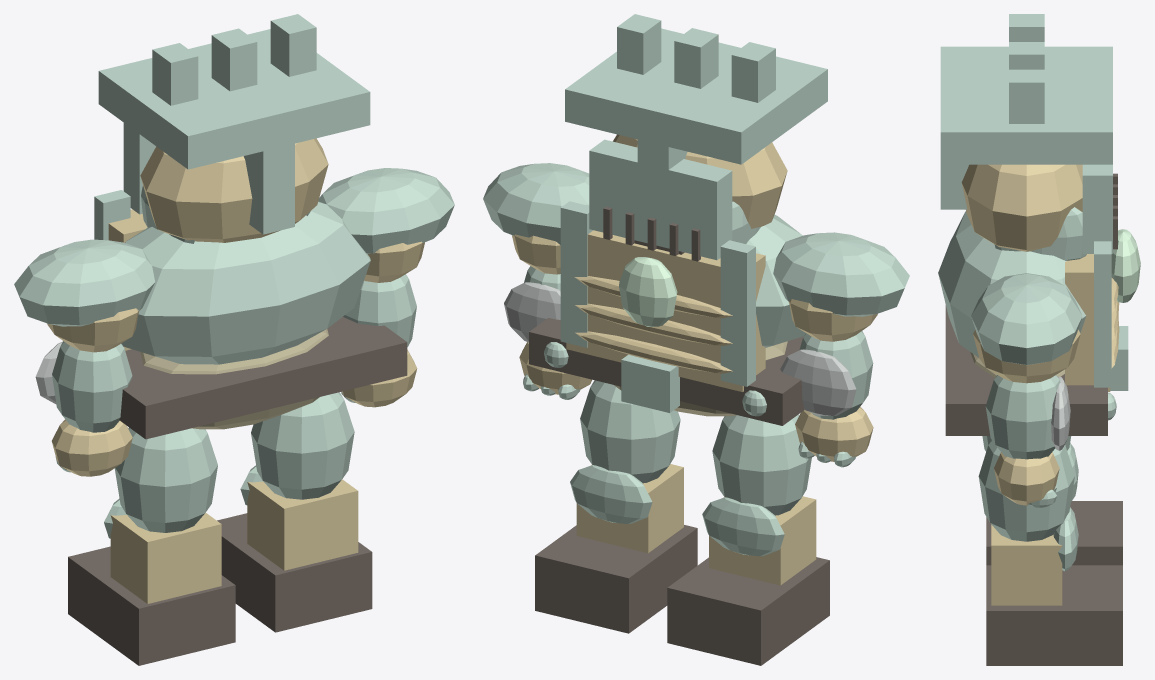
The model's file is jewel_sentinel.gltf.
The picture shows the model from 3 angles, left to right: view 1: azimuth 30°, elevation 25°; view 2: azimuth 150°, elevation 25°; view 3: azimuth 270°, elevation 25°; orthographic projection. The views are drawn at different scales.
Parts seen in each view (by area): view 1: Part2, Part53, Part4, Part25, Part6, Part38, Part26, Part23, Part36, Part39, Part37, Part24 (+15 smaller); view 2: Part53, Part25, Part38, Part7, Part3, Part26, Part23, Part36, Part4, Part39, Part46, Part24 (+24 smaller); view 3: Part53, Part38, Part6, Part39, Part2, Part4, Part34, Part37, Part36, Part25, Part3, Part48 (+12 smaller).
Part boxes in pixels (left/top/right/bottom): Part2: left=121, top=201, right=370, bottom=364; Part53: left=98, top=29, right=370, bottom=169; Part4: left=119, top=317, right=407, bottom=439; Part25: left=68, top=546, right=235, bottom=665; Part6: left=140, top=138, right=328, bottom=242; Part38: left=217, top=513, right=372, bottom=632; Part26: left=14, top=239, right=155, bottom=326; Part23: left=114, top=427, right=217, bottom=532; Part36: left=251, top=392, right=354, bottom=499; Part39: left=318, top=168, right=454, bottom=253; Part37: left=247, top=479, right=358, bottom=570; Part24: left=110, top=513, right=221, bottom=603; Part53: left=565, top=28, right=827, bottom=164; Part25: left=667, top=557, right=829, bottom=665; Part38: left=535, top=525, right=697, bottom=633; Part7: left=589, top=139, right=732, bottom=260; Part3: left=566, top=230, right=765, bottom=391; Part26: left=773, top=232, right=909, bottom=316; Part23: left=712, top=414, right=811, bottom=515; Part36: left=580, top=380, right=680, bottom=483; Part4: left=529, top=318, right=804, bottom=425; Part39: left=483, top=163, right=589, bottom=244; Part46: left=720, top=240, right=755, bottom=386; Part24: left=709, top=496, right=816, bottom=585; Part53: left=940, top=46, right=1112, bottom=164; Part38: left=986, top=565, right=1122, bottom=665; Part6: left=961, top=164, right=1082, bottom=251; Part39: left=971, top=273, right=1082, bottom=365; Part2: left=938, top=211, right=1085, bottom=357; Part4: left=945, top=305, right=1107, bottom=435; Part34: left=985, top=375, right=1060, bottom=459; Part37: left=991, top=524, right=1062, bottom=605; Part36: left=978, top=440, right=1074, bottom=541; Part25: left=986, top=501, right=1122, bottom=565; Part3: left=1065, top=254, right=1110, bottom=391; Part48: left=1094, top=241, right=1111, bottom=387.
Size of the model in its own units: 0.945 by 1.22 by 0.4.
